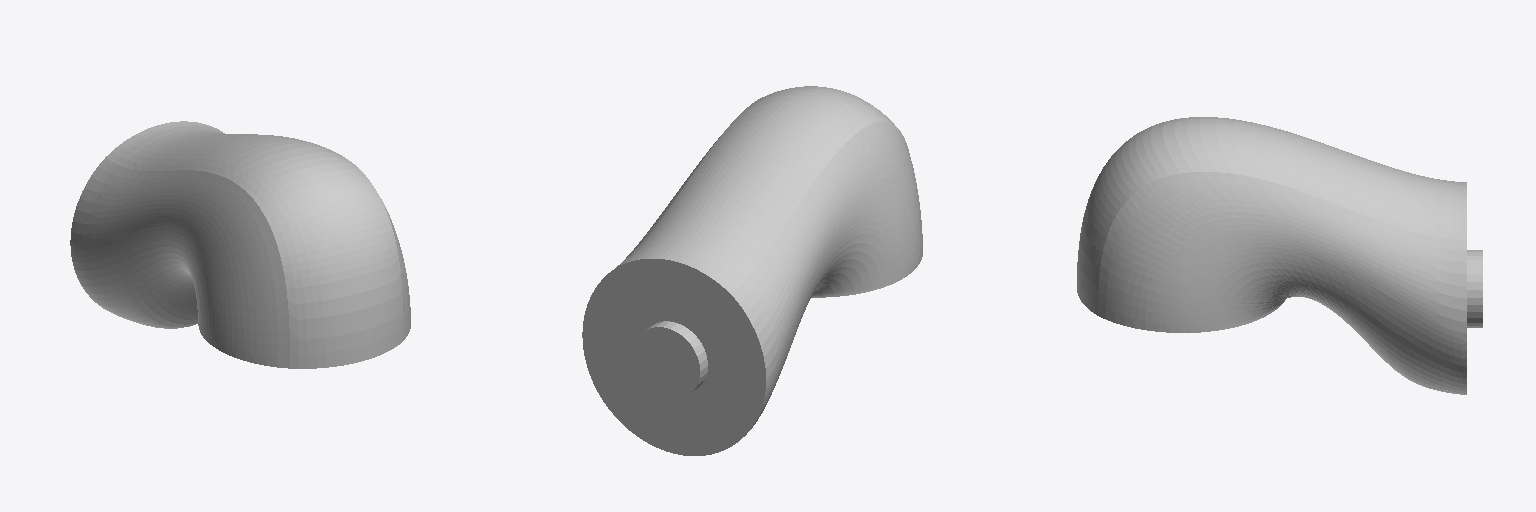
3 renders of one model, left to right at view 1: azimuth 30°, elevation 25°; view 2: azimuth 150°, elevation 25°; view 3: azimuth 270°, elevation 25°, orthographic.
Parts seen in each view (by area): view 1: link_3; view 2: link_3; view 3: link_3.
Part boxes in pixels (bbox=[...]): link_3: bbox=[70, 121, 410, 368]; link_3: bbox=[582, 86, 922, 455]; link_3: bbox=[1077, 117, 1482, 394].
Bounding box in the file's own units: 0.136 × 0.1826 × 0.2599.